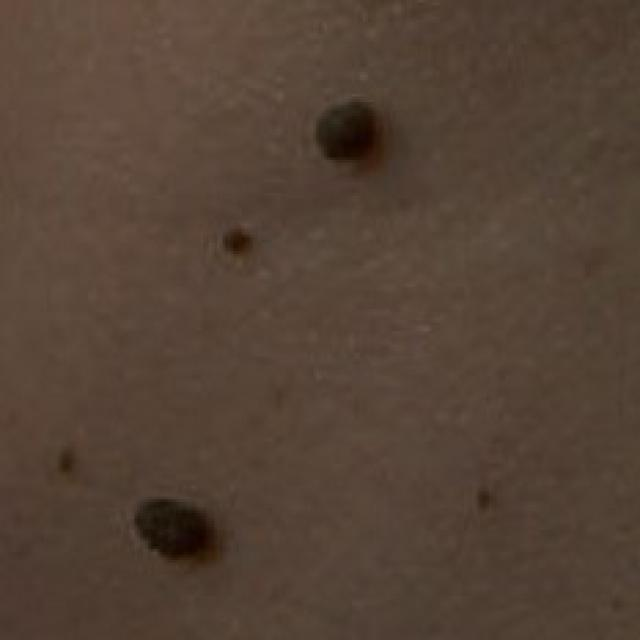wart: (104, 472, 256, 582), (288, 82, 415, 180), (198, 207, 280, 276)
